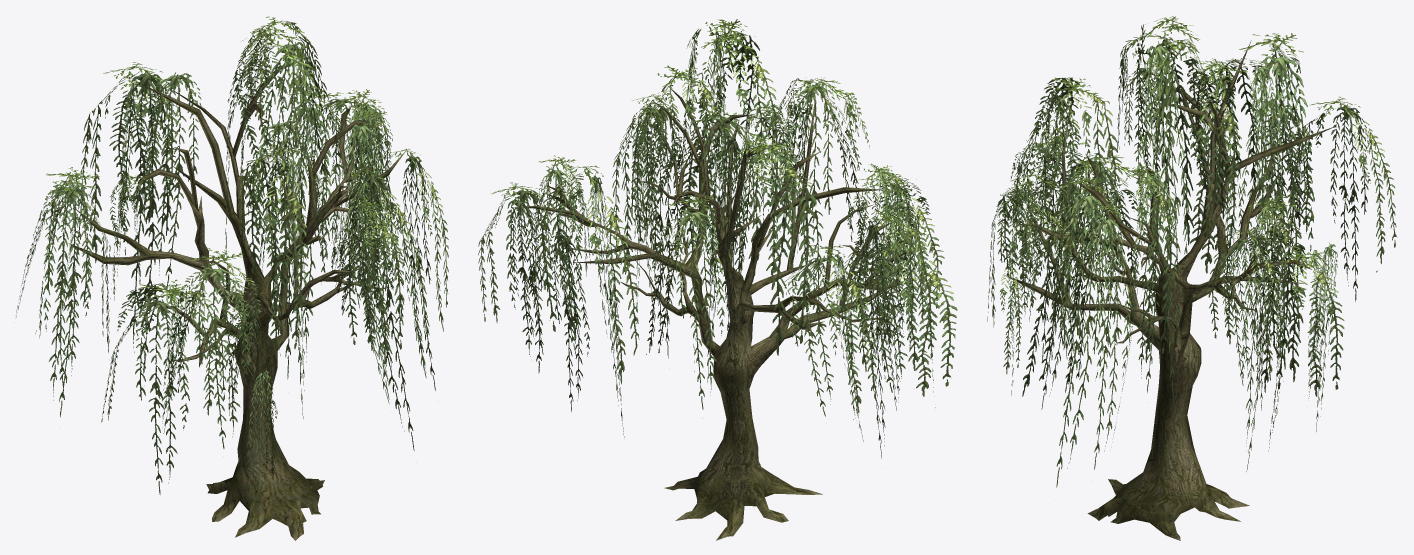
File: m_zhiwu_01.FBX
3 renders of one model, left to right at view 1: azimuth 30°, elevation 25°; view 2: azimuth 150°, elevation 25°; view 3: azimuth 270°, elevation 25°, orthographic. The views are drawn at different scales.
Parts seen in each view (by area): view 1: m_zhiwu_01; view 2: m_zhiwu_01; view 3: m_zhiwu_01.
Part boxes in pixels (left/top/right/bottom): m_zhiwu_01: left=16, top=16, right=448, bottom=540; m_zhiwu_01: left=478, top=19, right=957, bottom=540; m_zhiwu_01: left=987, top=16, right=1397, bottom=540.
Bounding box in the file's own units: 232 × 275 × 203.
